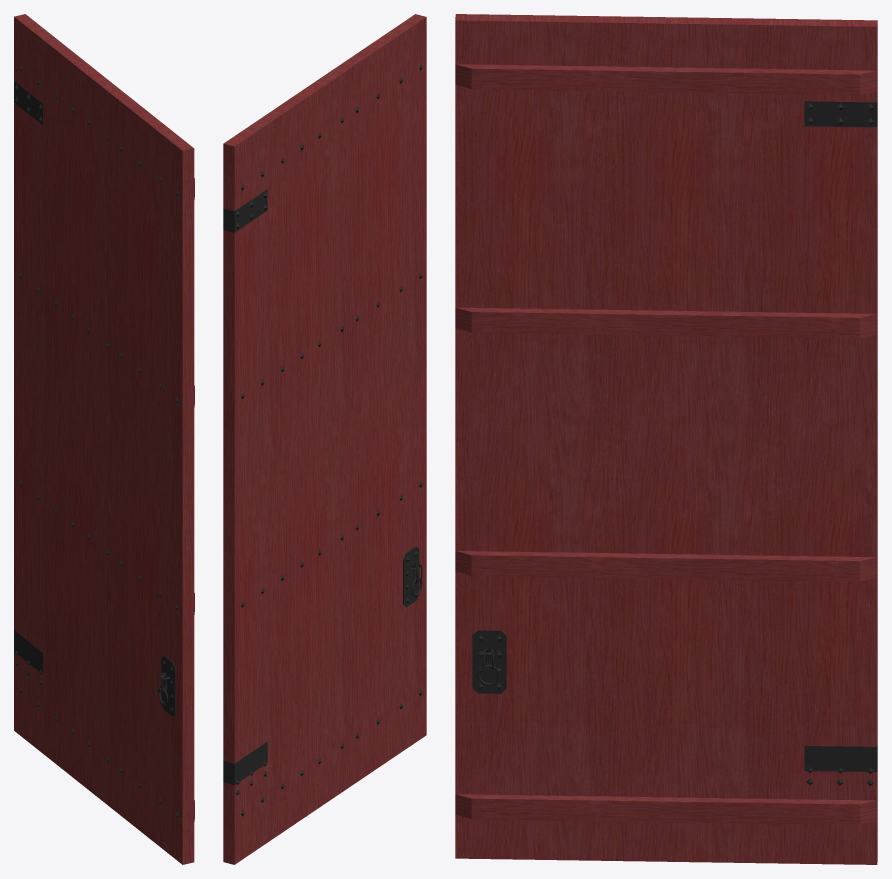
Rendered from door2.fbx.
The picture shows the model from 3 angles, left to right: view 1: azimuth 30°, elevation 25°; view 2: azimuth 150°, elevation 25°; view 3: azimuth 270°, elevation 25°; orthographic projection. The views are drawn at different scales.
Visible parts, largest first — view 1: Group1, Group15; view 2: Group1, Group15; view 3: Group1, Group9, Group7, Group3, Group5, Group10.
Boxes of the visible parts, <box> form: Group1: <box>14,14,194,864</box>; Group15: <box>161,655,175,716</box>; Group1: <box>223,14,426,864</box>; Group15: <box>403,546,419,607</box>; Group1: <box>455,14,877,864</box>; Group9: <box>455,307,877,338</box>; Group7: <box>455,794,877,824</box>; Group3: <box>455,64,877,94</box>; Group5: <box>455,551,877,581</box>; Group10: <box>472,630,506,693</box>.
Bounding box in the file's own units: 105 × 1902 × 869.
